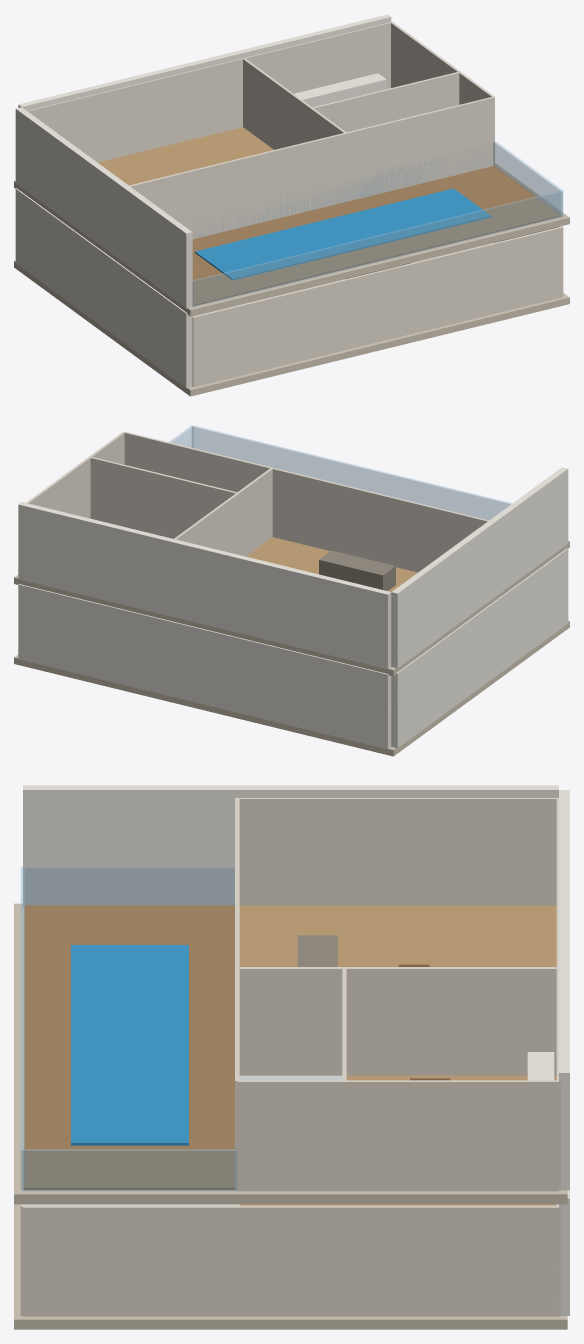
The model's file is villa-2.glb.
3 renders of one model, top to bottom at view 1: azimuth 30°, elevation 25°; view 2: azimuth 150°, elevation 25°; view 3: azimuth 270°, elevation 25°, orthographic. The views are drawn at different scales.
Parts seen in each view (by area): view 1: level-main, level-lower, floor-pool, slab (×2), floor-living; view 2: level-main, level-lower, slab (×2), floor-living; view 3: level-main, level-lower, floor-pool, slab (×2), floor-living, floor-kitchen.
Boxes of the visible parts, x1,y1,x2,y2 form: level-main: (15, 14, 563, 308); level-lower: (15, 188, 563, 388); floor-pool: (192, 166, 560, 305); slab (×2): (14, 163, 569, 396); floor-living: (98, 127, 273, 185); level-main: (18, 425, 568, 669); level-lower: (18, 548, 568, 749); slab (×2): (14, 540, 569, 756); floor-living: (246, 537, 417, 591); level-main: (20, 785, 569, 1191); level-lower: (20, 1190, 569, 1316); floor-pool: (24, 905, 234, 1189); slab (×2): (14, 903, 567, 1329); floor-living: (239, 905, 556, 966); floor-kitchen: (346, 1075, 556, 1080).
Bounding box in the file's own units: 15.45 × 6.25 × 12.45.
